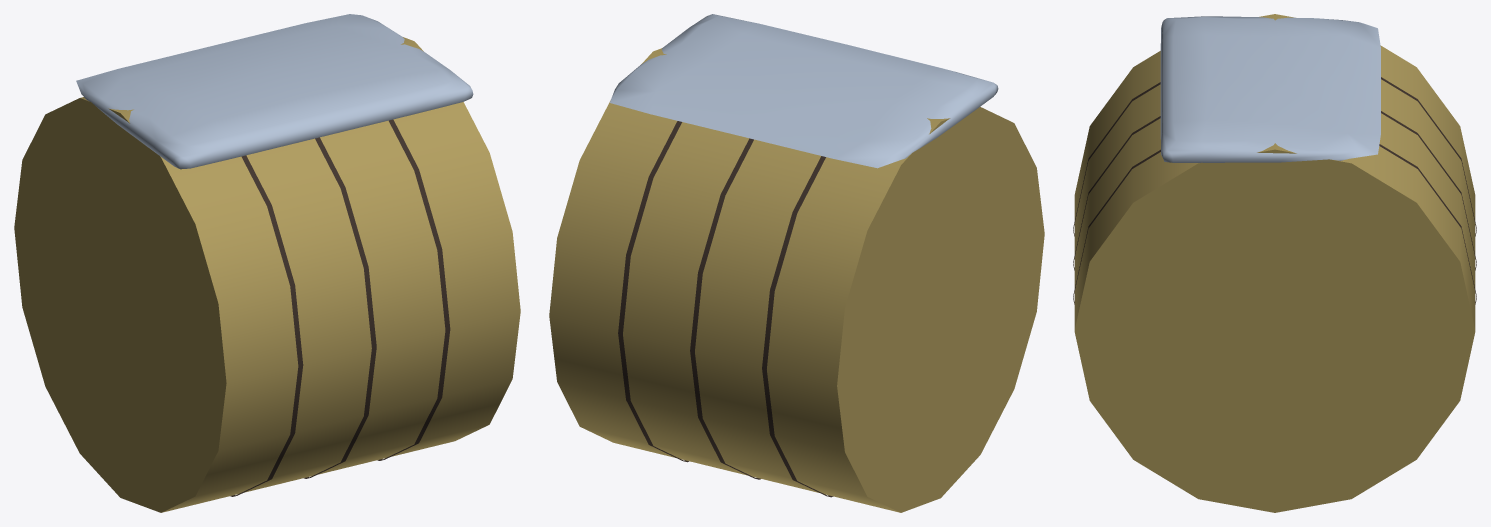
The model's file is hay_round.glb.
3 renders of one model, left to right at view 1: azimuth 30°, elevation 25°; view 2: azimuth 150°, elevation 25°; view 3: azimuth 270°, elevation 25°, orthographic. The views are drawn at different scales.
Visible parts, largest first — view 1: Prop; view 2: Prop; view 3: Prop.
Part boxes in pixels (bbox=[...]): Prop: bbox=[14, 14, 520, 512]; Prop: bbox=[549, 14, 1044, 512]; Prop: bbox=[1073, 14, 1476, 512].
Bounding box in the file's own units: 1.22 × 1.53 × 1.51.
